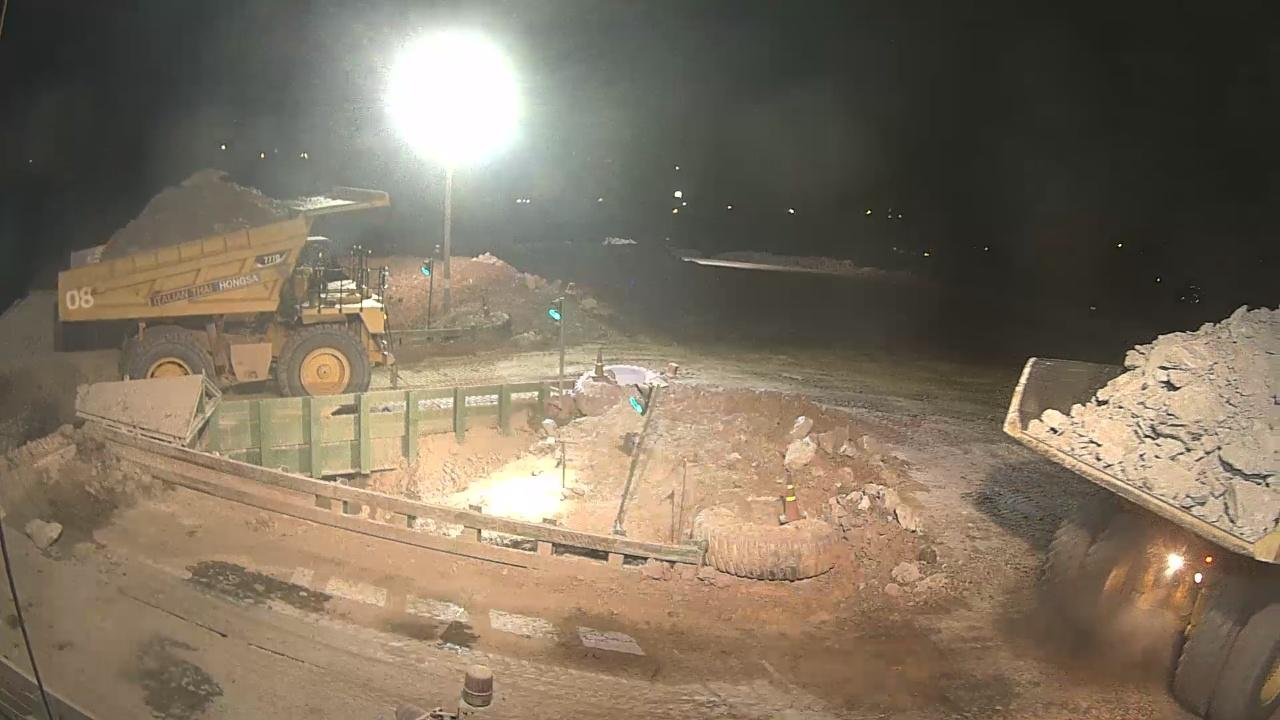dumping_soil: (53, 161, 400, 400)
full_load: (1046, 292, 1280, 516), (103, 172, 316, 254)
mining_truck: (964, 258, 1280, 719)
tail_number: (61, 279, 100, 316)
